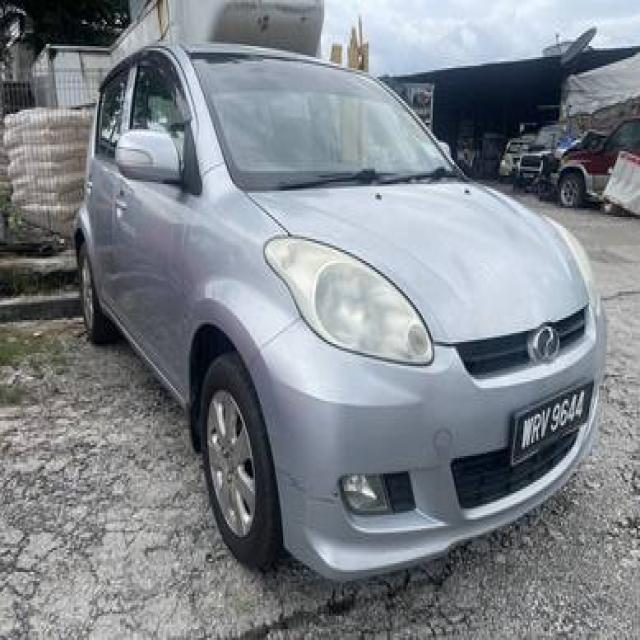PeroduaMyvi: (71, 35, 607, 583)
